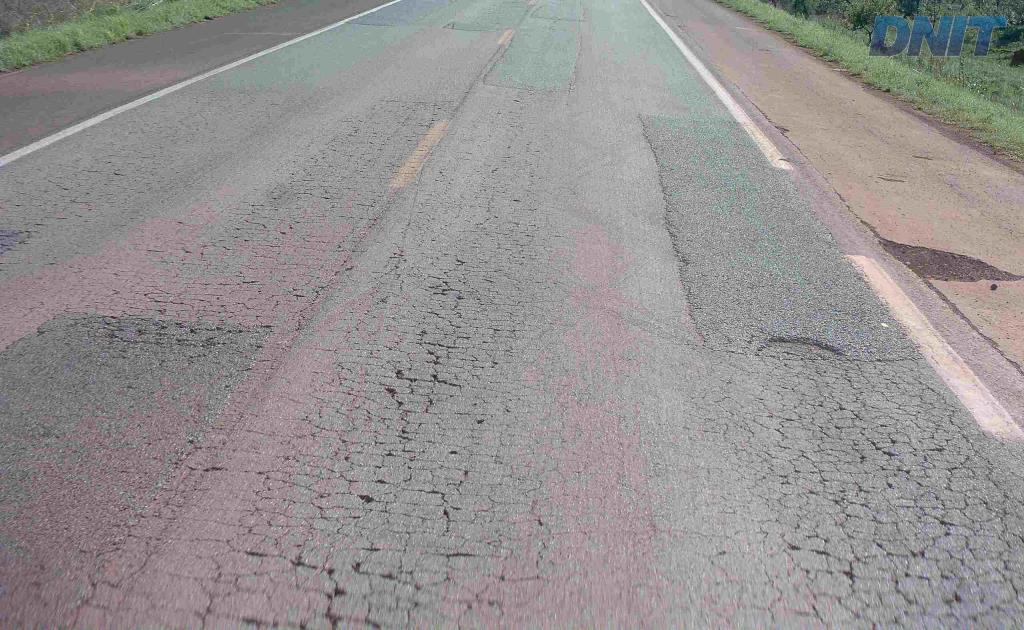crack: (973, 484, 1017, 572)
pothole: (749, 322, 852, 362)
